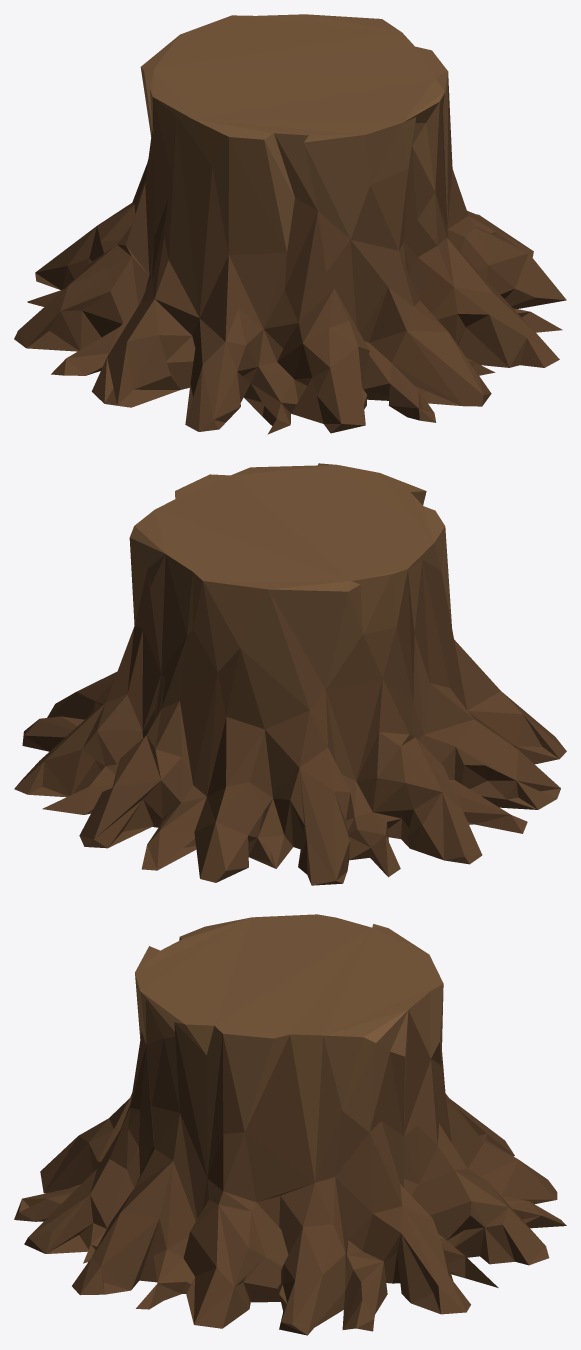
File: stump-1.glb
3 renders of one model, top to bottom at view 1: azimuth 30°, elevation 25°; view 2: azimuth 150°, elevation 25°; view 3: azimuth 270°, elevation 25°, orthographic.
Visible parts, largest first — view 1: output_unwrapped; view 2: output_unwrapped; view 3: output_unwrapped.
Boxes of the visible parts, x1,y1,x2,y2 form: output_unwrapped: (14,14,566,434); output_unwrapped: (14,463,566,885); output_unwrapped: (14,914,566,1335).
Size of the model in its own units: 1.38 by 0.6819 by 1.4.
